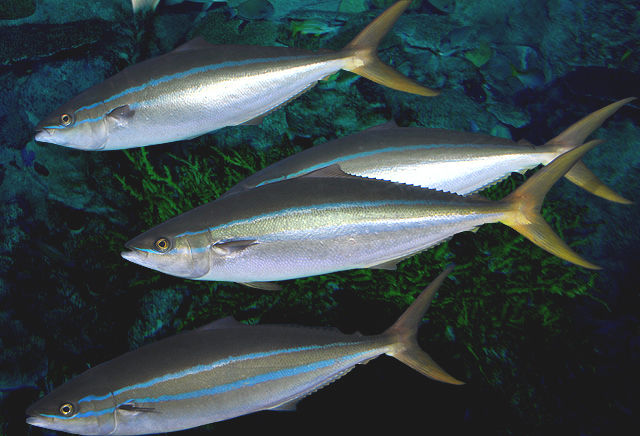fish: (23, 267, 466, 434), (119, 138, 602, 283), (33, 1, 444, 152)
